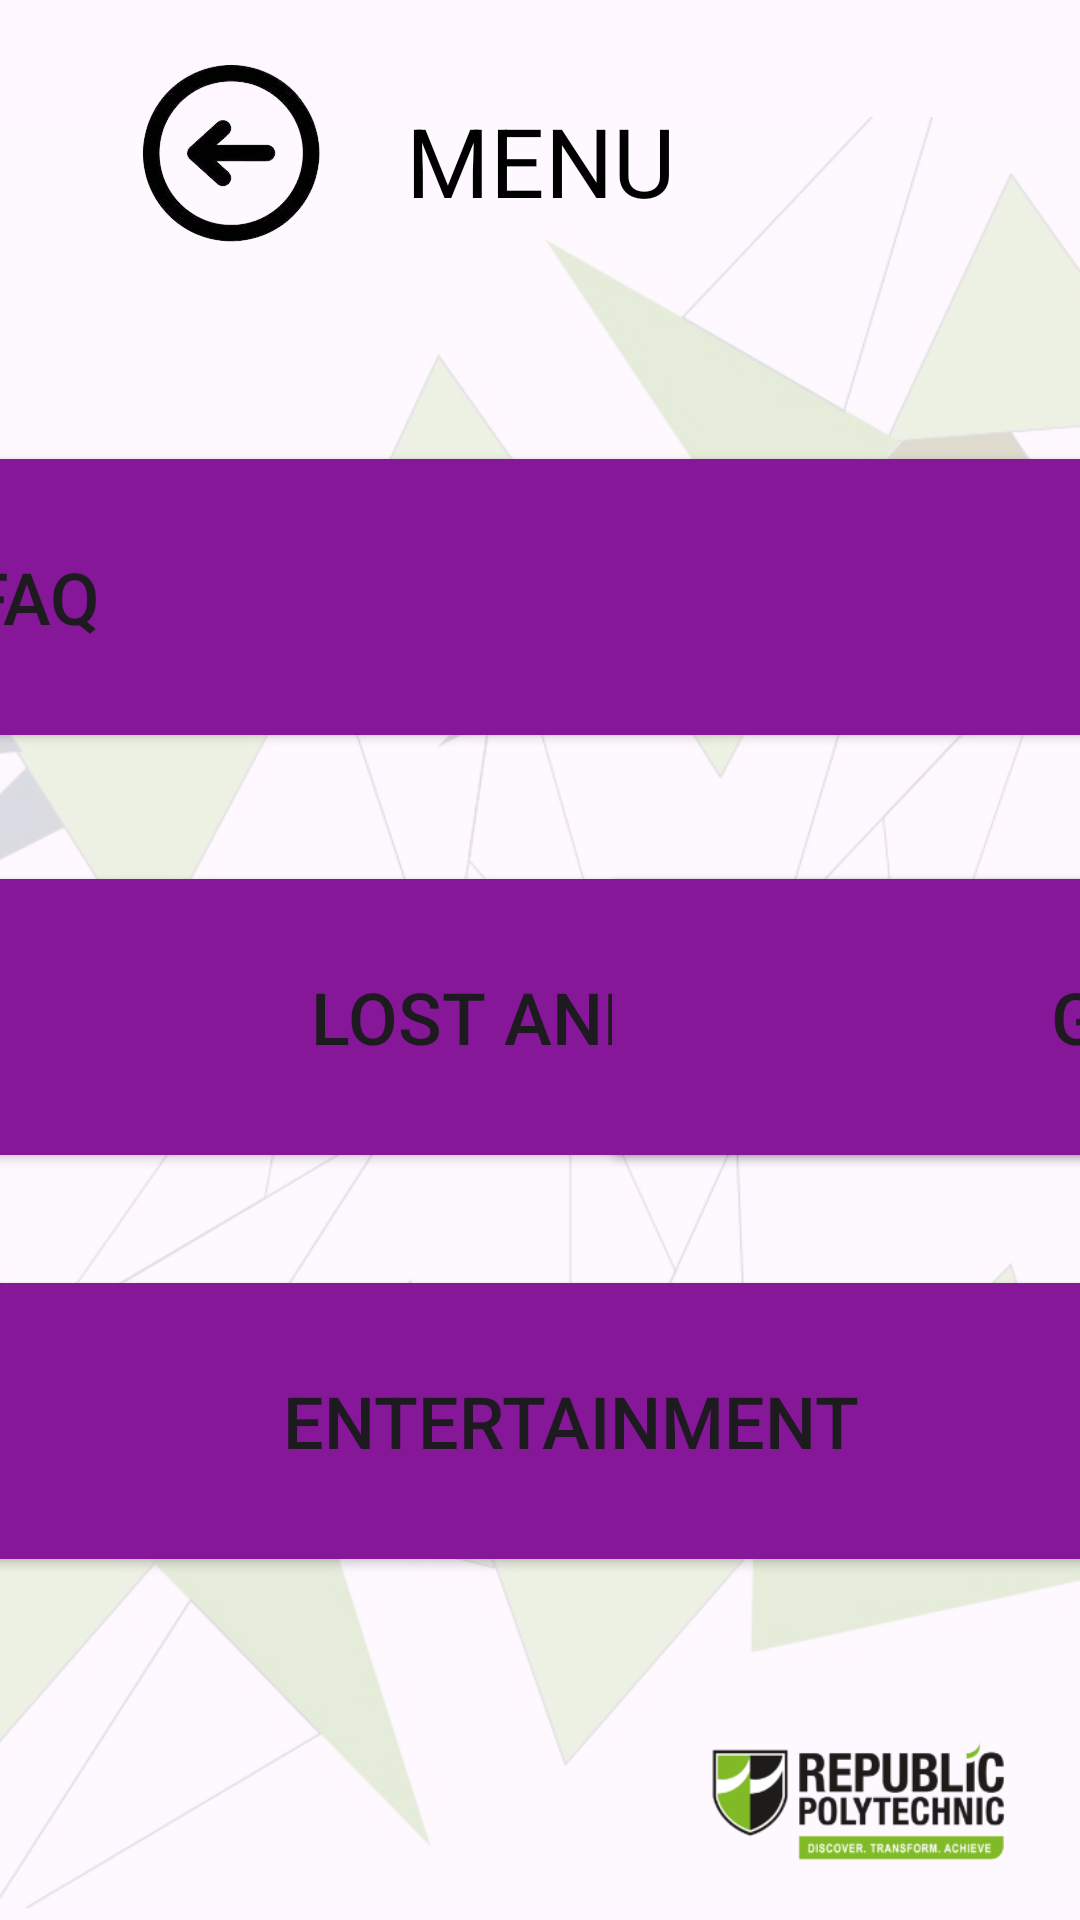

Screen size 1080*1920. Icon name, then its box in pixels as (x1, y1, x2, y2):
back: (143, 65, 320, 242)
